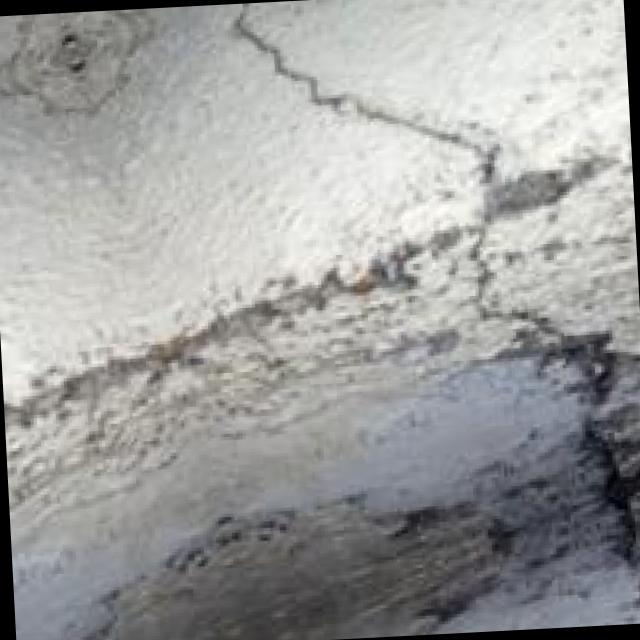crack: (175, 0, 502, 211)
